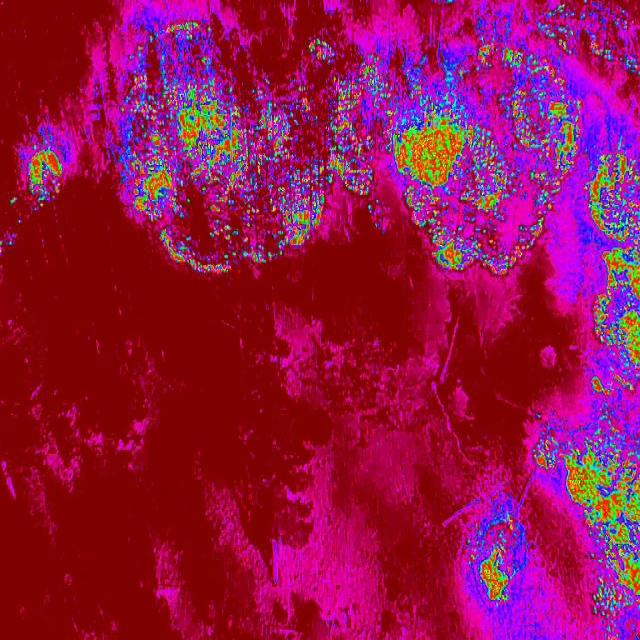fire: (400, 0, 640, 278), (109, 0, 326, 271), (327, 0, 400, 201), (535, 423, 640, 508), (464, 500, 532, 615), (582, 509, 640, 640), (590, 277, 640, 424), (16, 128, 74, 208)
